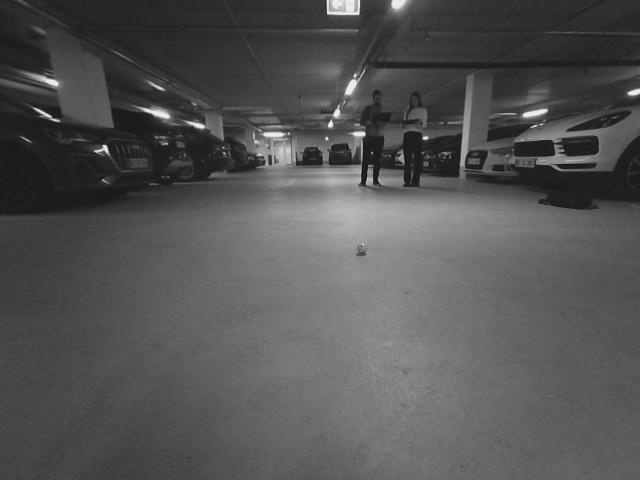dogtoy: (350, 238, 374, 257)
